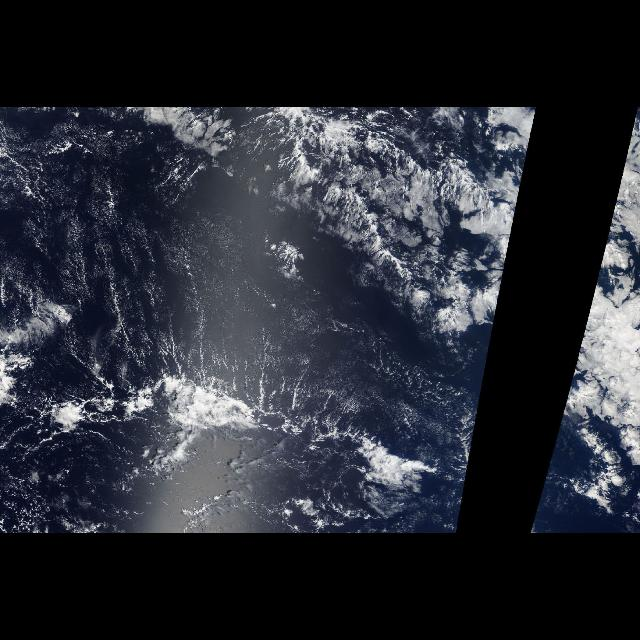Fish: (0, 343, 488, 532), (241, 108, 443, 296)
Sugar: (3, 141, 375, 373)
